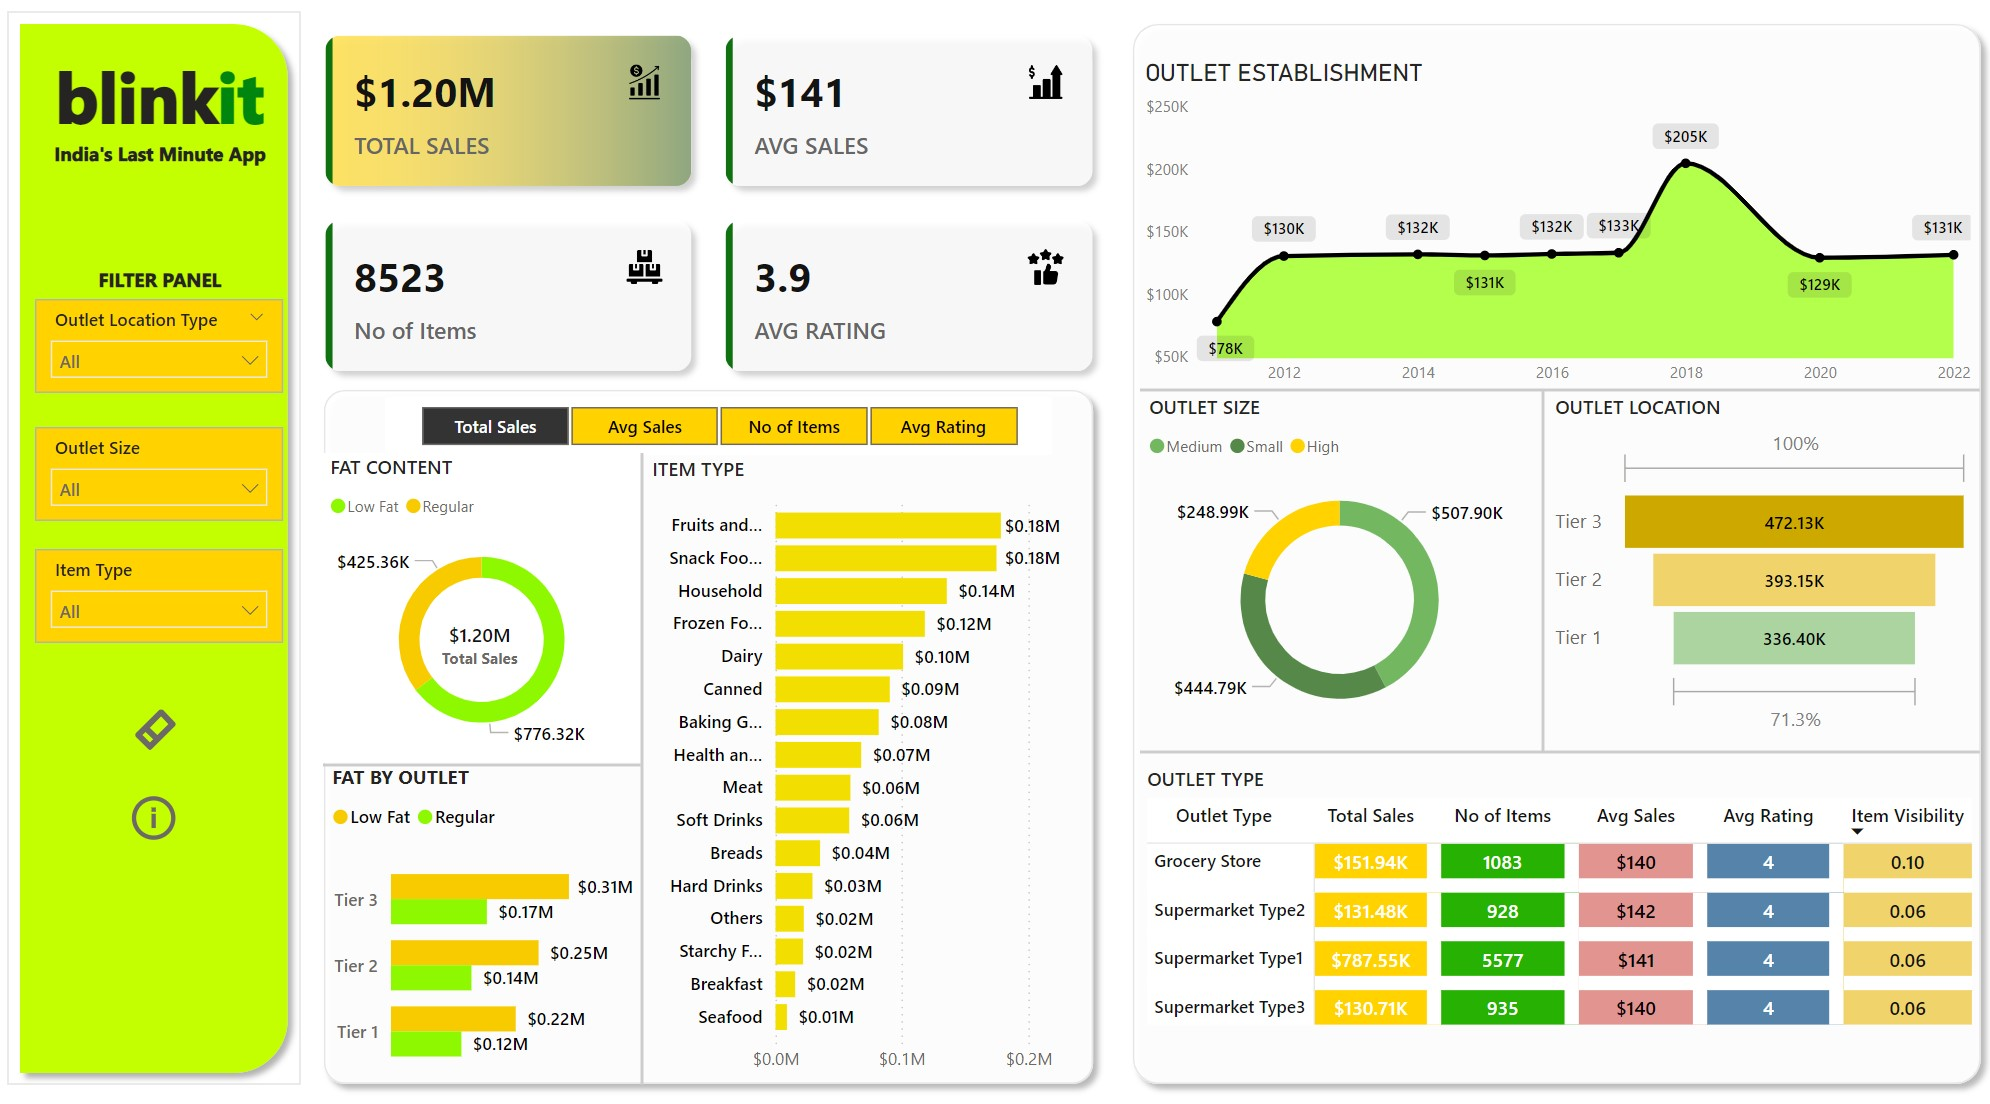

The dashboard page shown, as its layout file describes it:
{"tool":"powerbi","page":{"name":"Dashboard","canvas":[1400,800],"ordinal":0},"visuals":[{"type":"shape","box":[11.4,13.9,204.7,749.4],"z":0},{"type":"textbox","box":[32.1,34.9,171.5,73.9],"z":1000},{"type":"textbox","box":[32.1,99,171.5,37.6],"z":2000},{"type":"cardVisual","fields":{"Data":["BlinkIT Grocery Data.Total Sales","BlinkIT Grocery Data.Avg Sales","BlinkIT Grocery Data.No of Items","BlinkIT Grocery Data.Avg Rating"]},"box":[216.1,13.9,570,269.2],"z":3000},{"type":"shape","box":[223.7,269.2,553.6,501.7],"z":4000},{"type":"slicer","fields":{"Values":["Metrics.Metrics"]},"box":[274.7,283.1,464.3,40.4],"z":5000},{"type":"donutChart","title":"FAT CONTENT","fields":{"Y":["BlinkIT Grocery Data.Total Sales"],"Category":["BlinkIT Grocery Data.Item Fat Content"]},"box":[231.3,322.3,221.2,216.1],"z":6000},{"type":"cardVisual","fields":{"Data":["BlinkIT Grocery Data.Total Sales"]},"box":[294.5,420.9,93.5,69.5],"z":7000},{"type":"clusteredBarChart","title":"FAT BY OUTLET","fields":{"Y":["BlinkIT Grocery Data.Total Sales"],"Category":["BlinkIT Grocery Data.Outlet Location Type"],"Series":["BlinkIT Grocery Data.Item Fat Content"]},"box":[232.5,538.4,219.9,230],"z":8000},{"type":"shape","box":[231.5,522.9,221.7,33.5],"z":9000},{"type":"shape","box":[451.8,322.1,4.2,440.6],"z":10000},{"type":"barChart","title":"ITEM TYPE","fields":{"Y":["BlinkIT Grocery Data.Total Sales"],"Category":["BlinkIT Grocery Data.Item Type"]},"box":[456,323.5,311,439.2],"z":11000},{"type":"shape","box":[786.1,13.9,609.2,757],"z":12000},{"type":"lineChart","title":"OUTLET ESTABLISHMENT","fields":{"Category":["BlinkIT Grocery Data.Outlet Establishment Year"],"Y":["BlinkIT Grocery Data.Total Sales"]},"box":[799,47.4,585.7,235.7],"z":13000},{"type":"shape","box":[800.4,266.3,585.7,23.7],"z":14000},{"type":"donutChart","title":"OUTLET SIZE","fields":{"Y":["BlinkIT Grocery Data.Total Sales"],"Category":["BlinkIT Grocery Data.Outlet Size"]},"box":[801.3,280.6,275.5,243.9],"z":15000},{"type":"shape","box":[1075.1,278.9,12.5,252.4],"z":16000},{"type":"funnel","title":"OUTLET LOCATION","fields":{"Y":["Sum(BlinkIT Grocery Data.Sales)"],"Category":["BlinkIT Grocery Data.Outlet Location Type"]},"box":[1084.9,280.3,299.8,242.6],"z":17000},{"type":"shape","box":[800.4,518.7,585.7,23.7],"z":18000},{"type":"pivotTable","title":"OUTLET TYPE","fields":{"Rows":["BlinkIT Grocery Data.Outlet Type"],"Values":["BlinkIT Grocery Data.Total Sales","BlinkIT Grocery Data.No of Items","BlinkIT Grocery Data.Avg Sales","BlinkIT Grocery Data.Avg Rating","Avg(BlinkIT Grocery Data.Item Visibility)"]},"box":[800.4,539.6,587.1,203.6],"z":19000},{"type":"slicer","fields":{"Values":["BlinkIT Grocery Data.Outlet Location Type"]},"box":[30.7,214.7,172.9,65.5],"z":20000},{"type":"slicer","fields":{"Values":["BlinkIT Grocery Data.Outlet Size"]},"box":[30.7,304,172.9,65.5],"z":21000},{"type":"slicer","fields":{"Values":["BlinkIT Grocery Data.Item Type"]},"box":[30.7,389,172.9,65.5],"z":22000},{"type":"textbox","box":[60,186.9,115.7,27.9],"z":23000},{"type":"actionButton","box":[76.7,488,76,54],"z":24000},{"type":"actionButton","box":[76.7,556.4,73.9,40.4],"z":25000}]}

Visuals, with their boxes on the page's 1400x800 design canvas (x1, y1, x2, y2). These are canvas units, not pixel positions in the 1990x1104 screenshot, which may show the page scaled, cropped or inside an application window:
shape: BBox(11, 14, 216, 763)
textbox: BBox(32, 35, 204, 109)
textbox: BBox(32, 99, 204, 137)
cardVisual - BlinkIT Grocery Data.Total Sales x BlinkIT Grocery Data.Avg Sales: BBox(216, 14, 786, 283)
shape: BBox(224, 269, 777, 771)
slicer - Metrics.Metrics: BBox(275, 283, 739, 324)
"FAT CONTENT" donutChart: BBox(231, 322, 452, 538)
cardVisual - BlinkIT Grocery Data.Total Sales: BBox(294, 421, 388, 490)
"FAT BY OUTLET" clusteredBarChart: BBox(232, 538, 452, 768)
shape: BBox(232, 523, 453, 556)
shape: BBox(452, 322, 456, 763)
"ITEM TYPE" barChart: BBox(456, 324, 767, 763)
shape: BBox(786, 14, 1395, 771)
"OUTLET ESTABLISHMENT" lineChart: BBox(799, 47, 1385, 283)
shape: BBox(800, 266, 1386, 290)
"OUTLET SIZE" donutChart: BBox(801, 281, 1077, 524)
shape: BBox(1075, 279, 1088, 531)
"OUTLET LOCATION" funnel: BBox(1085, 280, 1385, 523)
shape: BBox(800, 519, 1386, 542)
"OUTLET TYPE" pivotTable: BBox(800, 540, 1388, 743)
slicer - BlinkIT Grocery Data.Outlet Location Type: BBox(31, 215, 204, 280)
slicer - BlinkIT Grocery Data.Outlet Size: BBox(31, 304, 204, 370)
slicer - BlinkIT Grocery Data.Item Type: BBox(31, 389, 204, 454)
textbox: BBox(60, 187, 176, 215)
actionButton: BBox(77, 488, 153, 542)
actionButton: BBox(77, 556, 151, 597)
